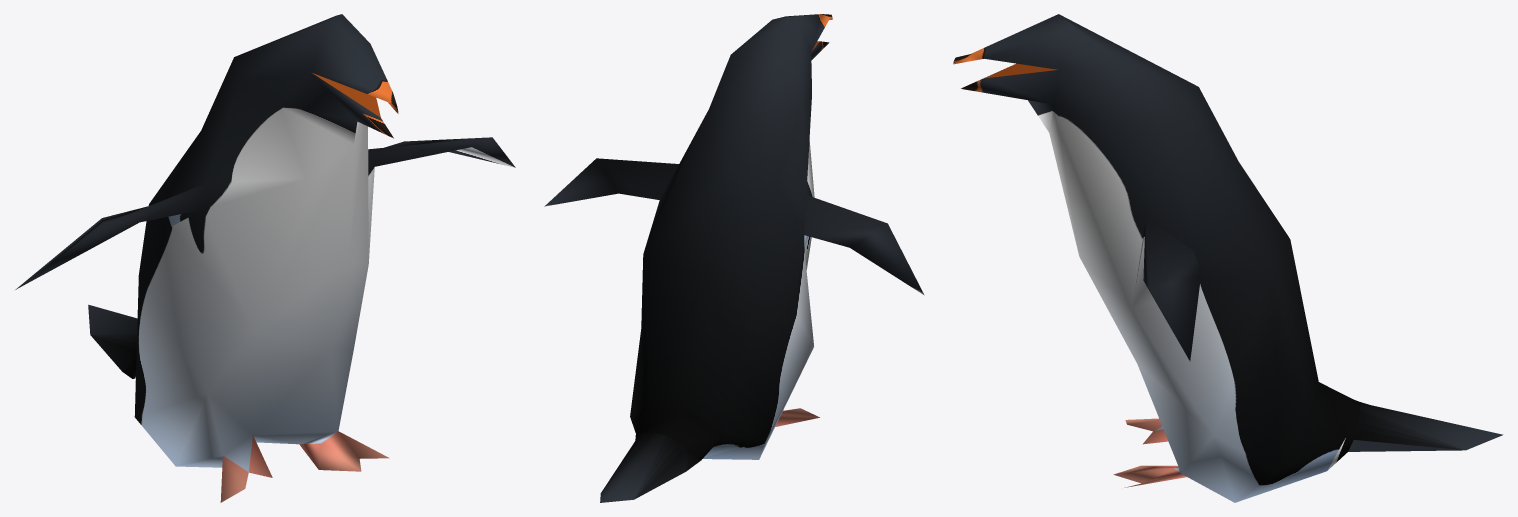
File: Adelie_DistantLOD_Idle.fbx
3 renders of one model, left to right at view 1: azimuth 30°, elevation 25°; view 2: azimuth 150°, elevation 25°; view 3: azimuth 270°, elevation 25°, orthographic. The views are drawn at different scales.
Parts seen in each view (by area): view 1: Adelie_model_LOD2; view 2: Adelie_model_LOD2; view 3: Adelie_model_LOD2.
Part boxes in pixels (x1,y1,x2,y2): Adelie_model_LOD2: (15,14,515,502); Adelie_model_LOD2: (544,14,924,502); Adelie_model_LOD2: (953,14,1503,502).
Bounding box in the file's own units: 0.7192 × 0.6987 × 0.7657.
